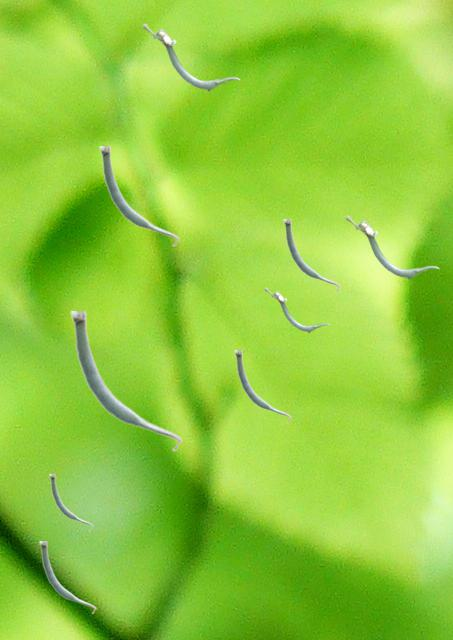french_bean: (70, 311, 181, 451), (99, 146, 178, 246), (142, 23, 239, 91), (345, 215, 438, 279), (39, 541, 95, 613), (234, 350, 290, 422), (283, 219, 339, 291), (264, 287, 329, 332), (49, 474, 92, 529)
